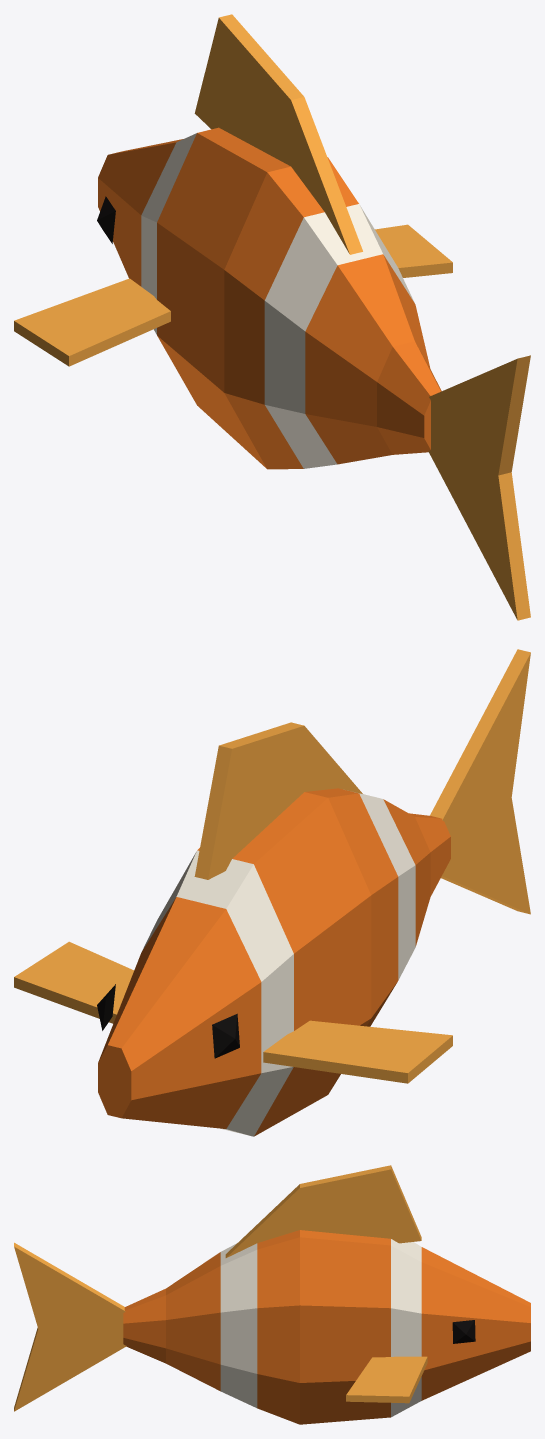
File: fish_a.glb
3 renders of one model, top to bottom at view 1: azimuth 30°, elevation 25°; view 2: azimuth 150°, elevation 25°; view 3: azimuth 270°, elevation 25°, orthographic. The views are drawn at different scales.
Parts seen in each view (by area): view 1: Body, Fin_Tail, Fin_Dorsal, Fin_L, Fin_R; view 2: Body, Fin_Tail, Fin_Dorsal, Fin_L, Fin_R; view 3: Body, Fin_Tail, Fin_Dorsal, Fin_R.
Part boxes in pixels (box(x1,y1,x2,y2)): Body: box(97, 127, 429, 469); Fin_Tail: box(377, 341, 530, 620); Fin_Dorsal: box(194, 14, 362, 254); Fin_L: box(14, 278, 170, 366); Fin_R: box(375, 224, 452, 277); Body: box(97, 788, 430, 1136); Fin_Tail: box(409, 649, 530, 914); Fin_Dorsal: box(194, 722, 362, 879); Fin_L: box(263, 1020, 452, 1083); Fin_R: box(14, 941, 134, 1023); Body: box(166, 1230, 530, 1424); Fin_Tail: box(14, 1242, 165, 1411); Fin_Dorsal: box(225, 1165, 421, 1257); Fin_R: box(346, 1356, 427, 1403).
Bounding box in the file's own units: 0.1652 × 0.1575 × 0.2975.
